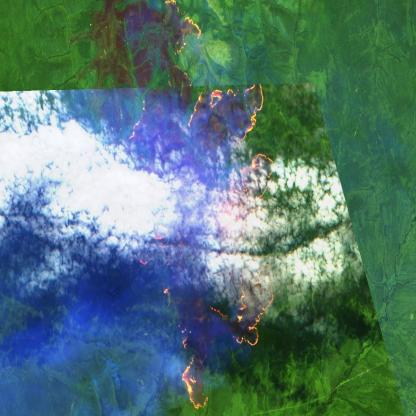fire: (184, 79, 268, 149), (223, 262, 276, 355), (164, 0, 204, 93), (136, 232, 188, 276), (181, 333, 208, 414), (237, 150, 276, 206), (125, 91, 151, 142)
